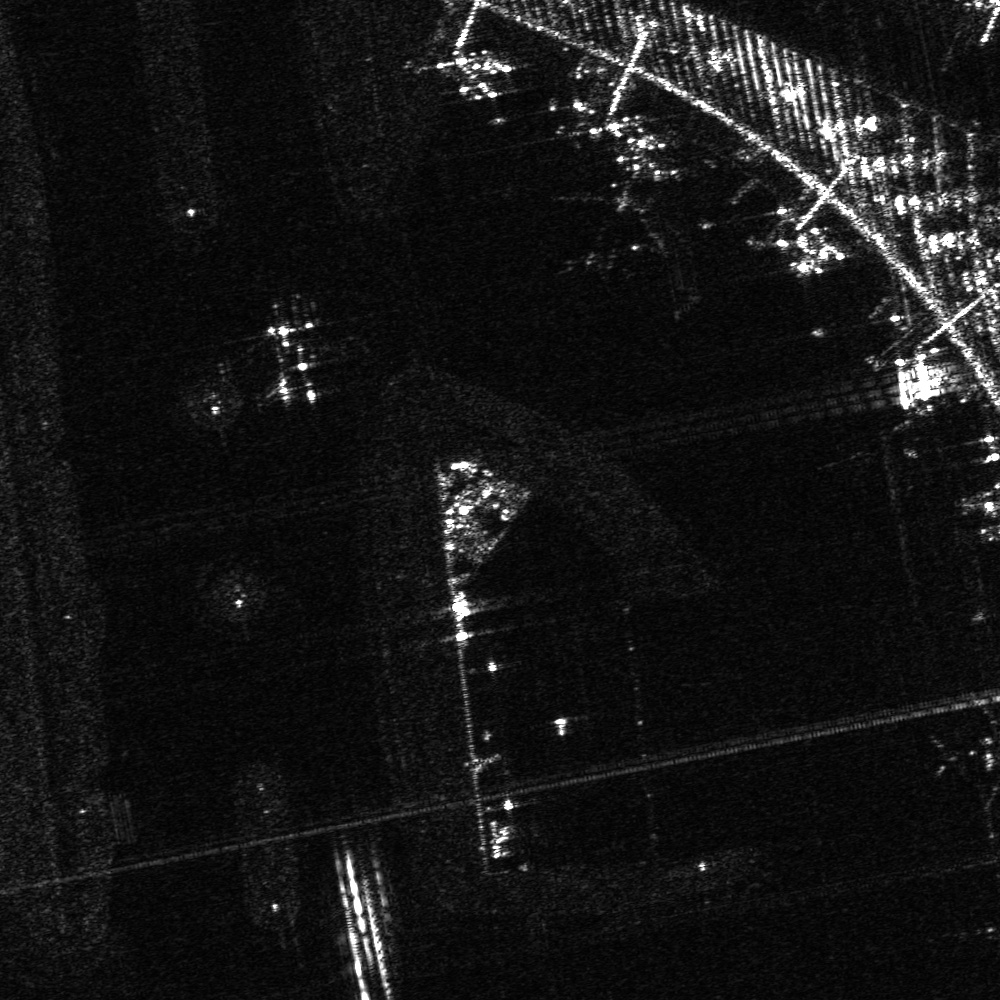Boeing787: (553, 181, 672, 272)
other: (236, 298, 340, 407)
